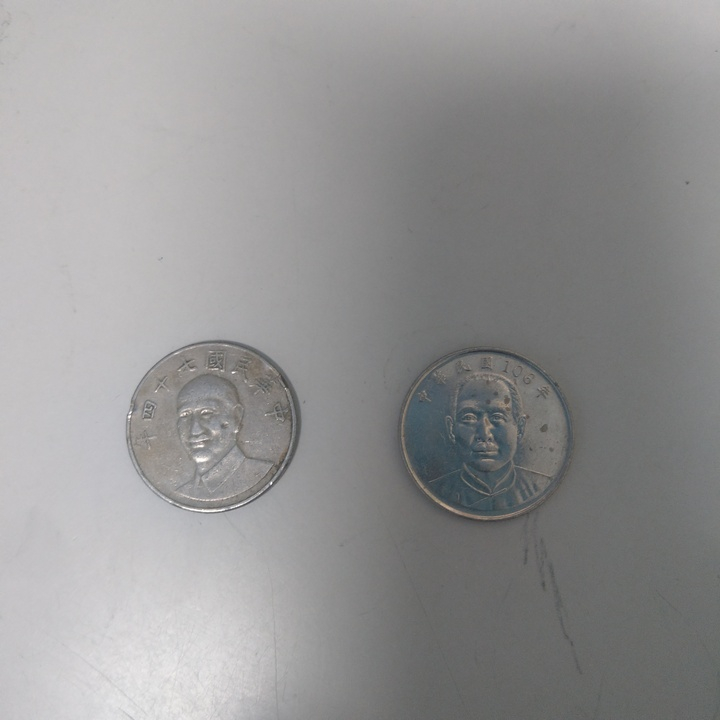10 dollar: (397, 343, 573, 526), (123, 339, 303, 512)
